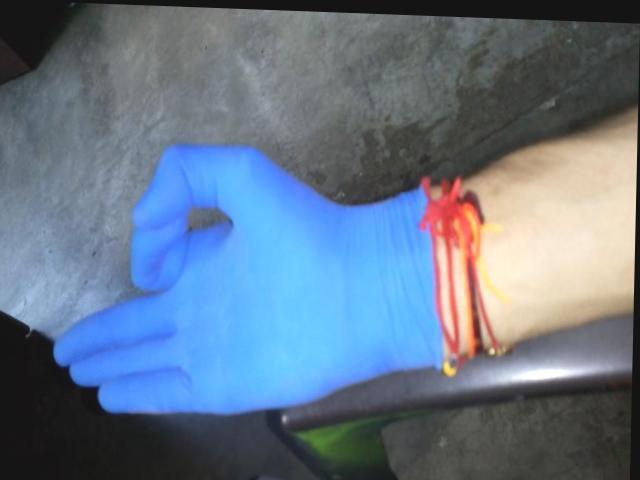Hand-in-Glove: (41, 70, 467, 440)
